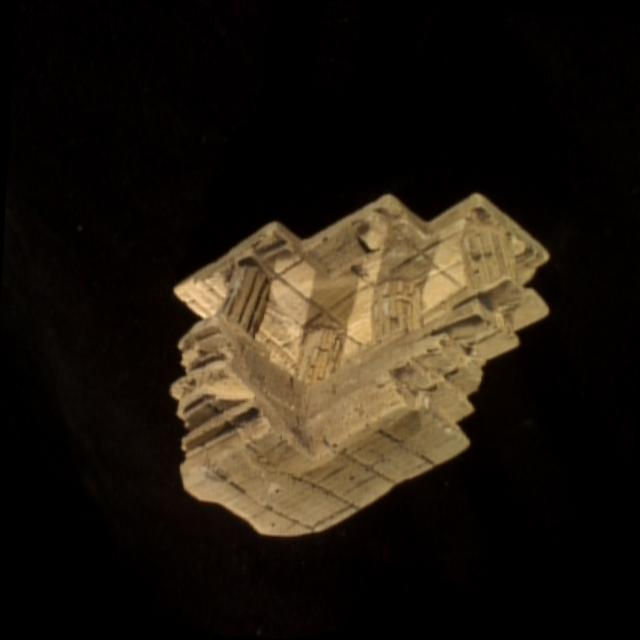Instance-Segmentation: (173, 194, 548, 535)
